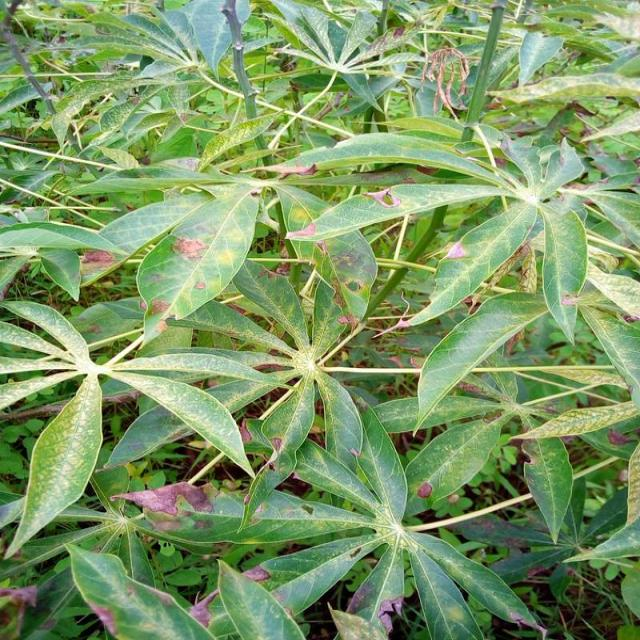cassava leaf: (1, 0, 638, 638), (4, 372, 103, 559)
